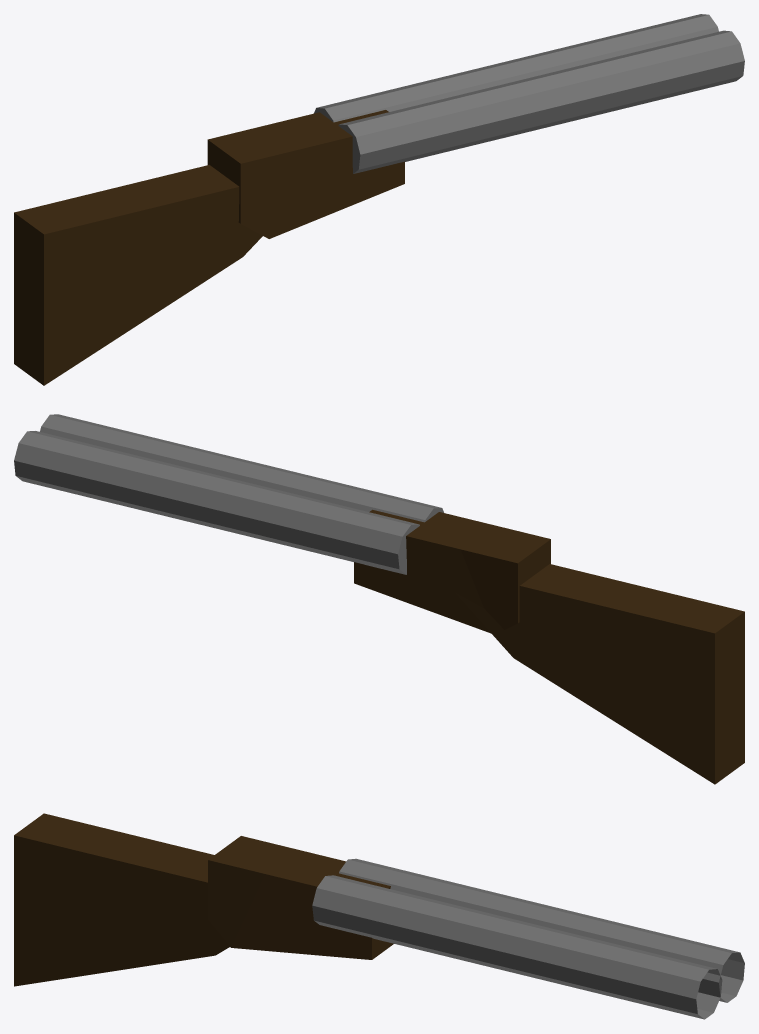
File: ShotgunV1.glb
3 renders of one model, top to bottom at view 1: azimuth 30°, elevation 25°; view 2: azimuth 150°, elevation 25°; view 3: azimuth 330°, elevation 25°, orthographic.
Visible parts, largest first — view 1: ShotgunV1; view 2: ShotgunV1; view 3: ShotgunV1.
Part boxes in pixels (x1,y1,x2,y2): ShotgunV1: (14,14,744,385); ShotgunV1: (14,414,744,784); ShotgunV1: (14,813,744,1019).
Size of the model in its own units: 4.93 by 1.24 by 0.6014.
